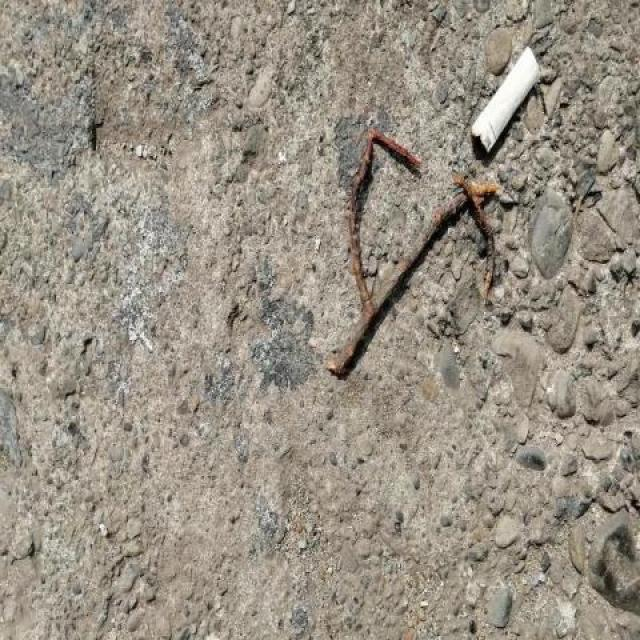non-organic waste: (467, 42, 542, 158)
